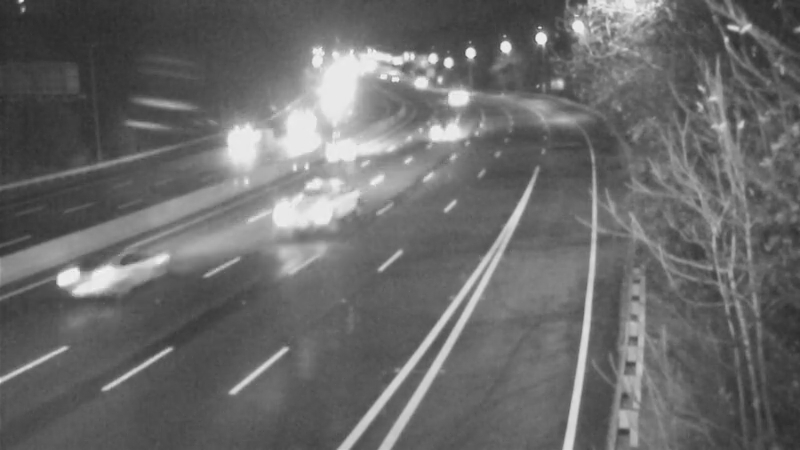vehicle: (278, 160, 358, 240), (47, 242, 127, 322), (197, 114, 277, 194), (432, 68, 482, 118), (419, 98, 469, 148), (316, 125, 366, 175), (267, 113, 317, 163)
